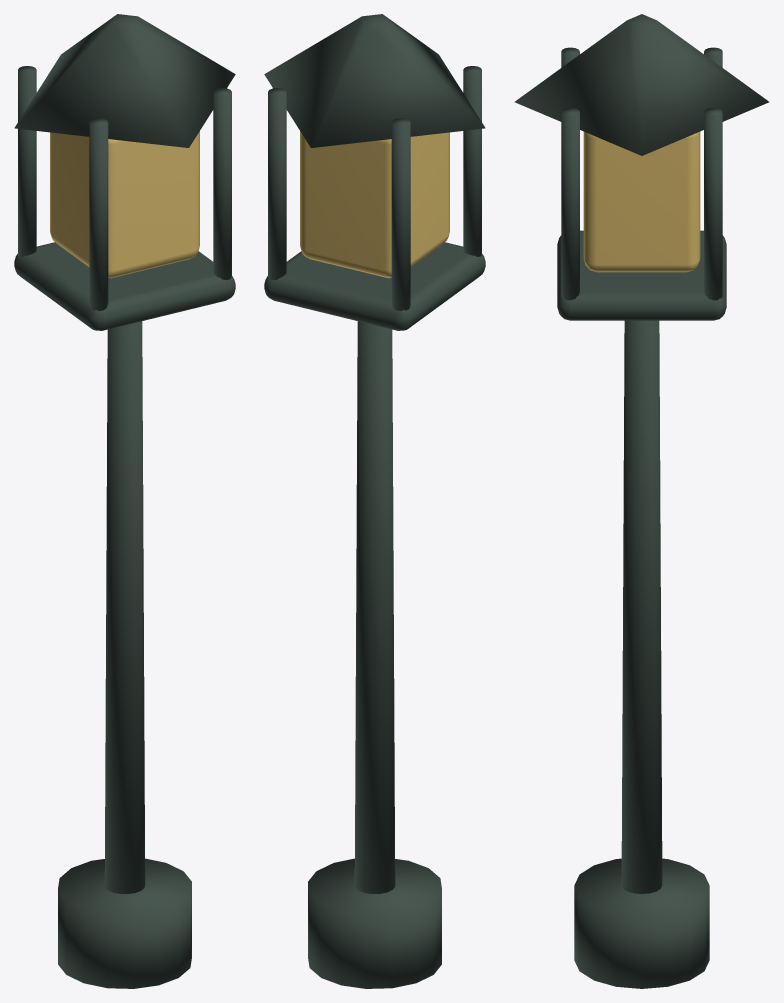
Rendered from lantern.glb.
3 renders of one model, left to right at view 1: azimuth 30°, elevation 25°; view 2: azimuth 150°, elevation 25°; view 3: azimuth 270°, elevation 25°, orthographic.
Visible parts, largest first — view 1: lantern_World_Mesh; view 2: lantern_World_Mesh; view 3: lantern_World_Mesh.
Part boxes in pixels (x1,y1,x2,y2): lantern_World_Mesh: (14, 14, 235, 988); lantern_World_Mesh: (264, 14, 485, 988); lantern_World_Mesh: (514, 14, 769, 988).
Size of the model in its own units: 0.68 by 2.76 by 0.68.
